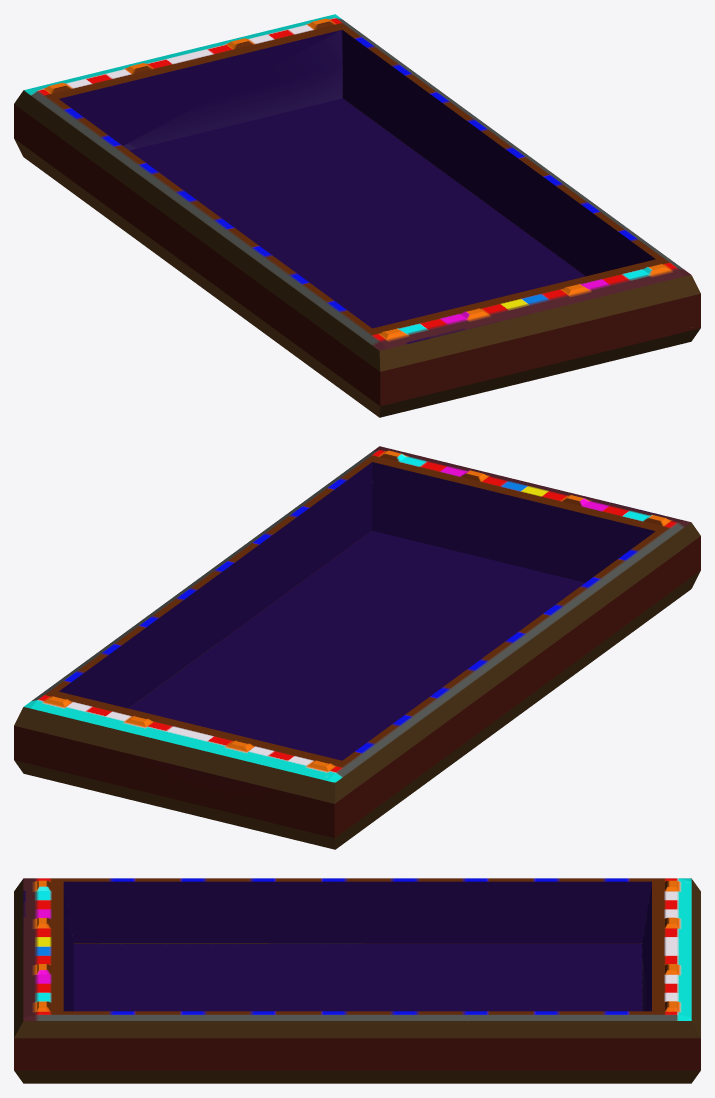
File: PinBallTableBase.fbx
3 renders of one model, top to bottom at view 1: azimuth 30°, elevation 25°; view 2: azimuth 150°, elevation 25°; view 3: azimuth 270°, elevation 25°, orthographic. The views are drawn at different scales.
Parts seen in each view (by area): view 1: Cube; view 2: Cube; view 3: Cube.
Part boxes in pixels (x1,y1,x2,y2): Cube: (14,14,700,417); Cube: (14,446,700,849); Cube: (14,878,700,1083).
Size of the model in its own units: 206 by 44.61 by 407.
